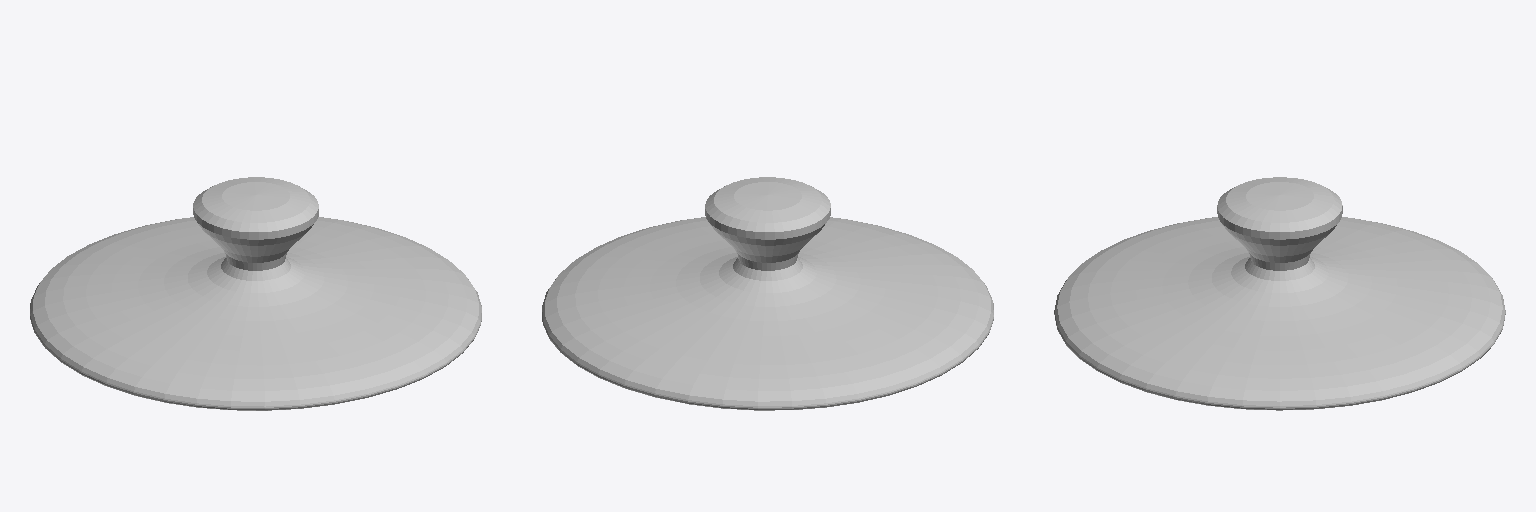
Rendered from teapot_3dprint_lid.obj.
3 renders of one model, left to right at view 1: azimuth 30°, elevation 25°; view 2: azimuth 150°, elevation 25°; view 3: azimuth 270°, elevation 25°, orthographic.
Visible parts, largest first — view 1: teapot.003_teapot.006; view 2: teapot.003_teapot.006; view 3: teapot.003_teapot.006.
Part boxes in pixels (bbox=[...]): teapot.003_teapot.006: bbox=[30, 177, 481, 410]; teapot.003_teapot.006: bbox=[542, 177, 993, 410]; teapot.003_teapot.006: bbox=[1054, 177, 1505, 410].
Size of the model in its own units: 2.58 by 0.7705 by 2.58.